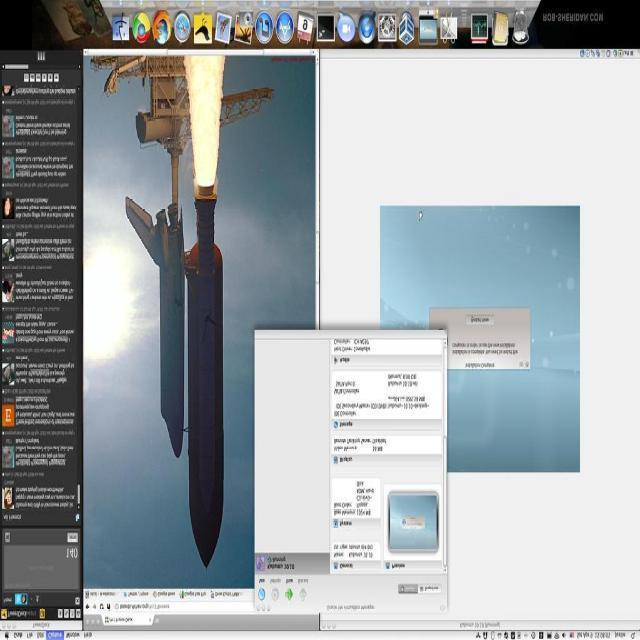Missile: (186, 230, 226, 573)
